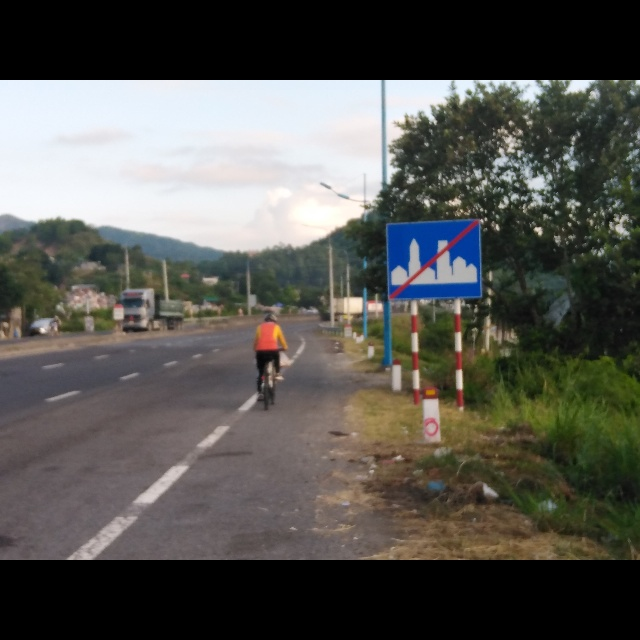Hết khu đông dân cư: (383, 217, 485, 301)
